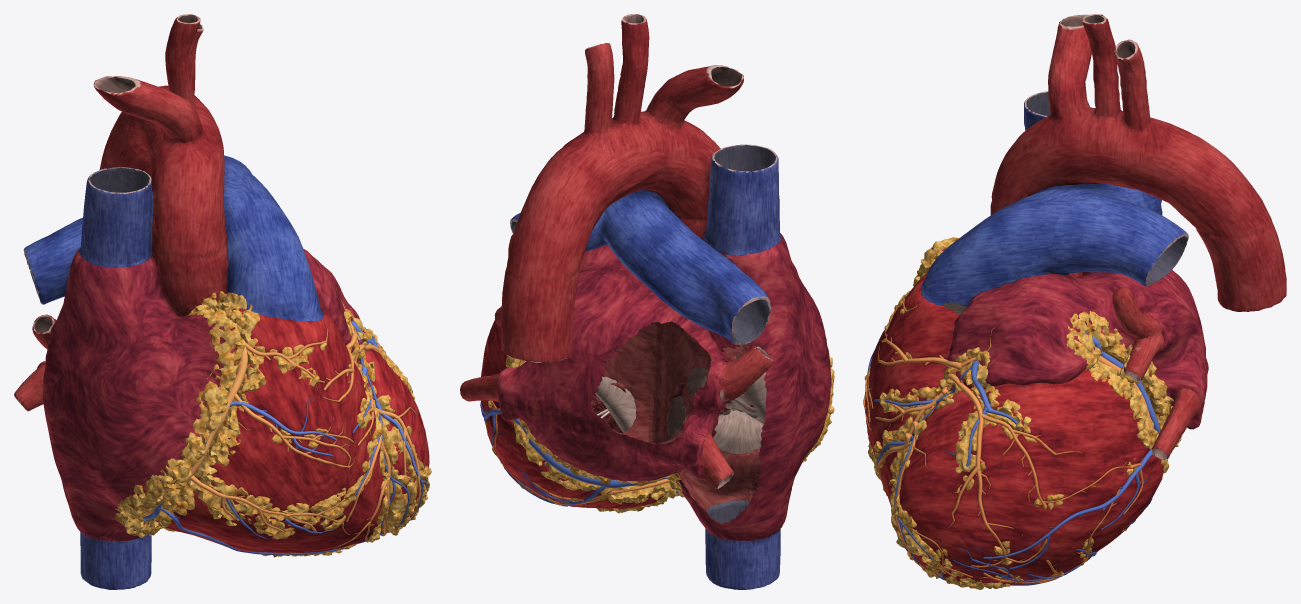
3 renders of one model, left to right at view 1: azimuth 30°, elevation 25°; view 2: azimuth 150°, elevation 25°; view 3: azimuth 270°, elevation 25°, orthographic. The views are drawn at different scales.
Visible parts, largest first — view 1: right_atrium, right_ventricle, epicardial_fat, aorta, pulmonary_arteries, superior_vena_cava, inferior_vena_cava, left_ventricle, left_atrium, anterior_cardiac_veins, pulmonary_veins, anterior_interventricular_vein (+5 smaller); view 2: aorta, left_atrium, right_atrium, pulmonary_arteries, superior_vena_cava, pulmonary_veins, left_ventricle, inferior_vena_cava, epicardial_fat, tricuspid_valve, mitral_valve, coronary_sinus (+1 smaller); view 3: left_ventricle, aorta, pulmonary_arteries, left_atrium, epicardial_fat, right_ventricle, pulmonary_veins, diagonals, anterior_interventricular_vein, lad_right_branches, left_marginal_vein, obtuse_marginals (+2 smaller).
Boxes of the visible parts, x1,y1,x2,y2 form: right_atrium: [43, 248, 236, 541]; right_ventricle: [152, 307, 385, 553]; epicardial_fat: [115, 291, 431, 557]; aorta: [93, 14, 228, 316]; pulmonary_arteries: [23, 155, 324, 321]; superior_vena_cava: [78, 167, 153, 267]; inferior_vena_cava: [80, 532, 151, 589]; left_ventricle: [357, 331, 429, 517]; left_atrium: [37, 249, 363, 368]; anterior_cardiac_veins: [160, 396, 367, 555]; pulmonary_veins: [14, 314, 56, 411]; anterior_interventricular_vein: [351, 320, 426, 534]; aorta: [500, 14, 743, 362]; left_atrium: [497, 244, 730, 481]; right_atrium: [678, 230, 831, 540]; pulmonary_arteries: [510, 189, 771, 345]; superior_vena_cava: [704, 144, 781, 255]; pulmonary_veins: [460, 234, 772, 489]; left_ventricle: [481, 320, 663, 508]; inferior_vena_cava: [705, 500, 780, 589]; epicardial_fat: [488, 349, 834, 513]; tricuspid_valve: [713, 354, 766, 454]; mitral_valve: [595, 376, 636, 432]; coronary_sinus: [528, 439, 666, 488]; left_ventricle: [896, 369, 1163, 584]; aorta: [990, 14, 1286, 311]; pulmonary_arteries: [921, 183, 1188, 306]; left_atrium: [948, 270, 1208, 431]; epicardial_fat: [864, 237, 1181, 589]; right_ventricle: [864, 273, 961, 504]; pulmonary_veins: [1112, 287, 1200, 459]; diagonals: [894, 373, 1082, 582]; anterior_interventricular_vein: [874, 360, 1018, 564]; lad_right_branches: [875, 333, 961, 507]; left_marginal_vein: [972, 449, 1152, 569]; obtuse_marginals: [971, 459, 1143, 567].
Size of the model in its own units: 1.27 by 2 by 1.44.
Materials: 38 (16 with a texture image).
